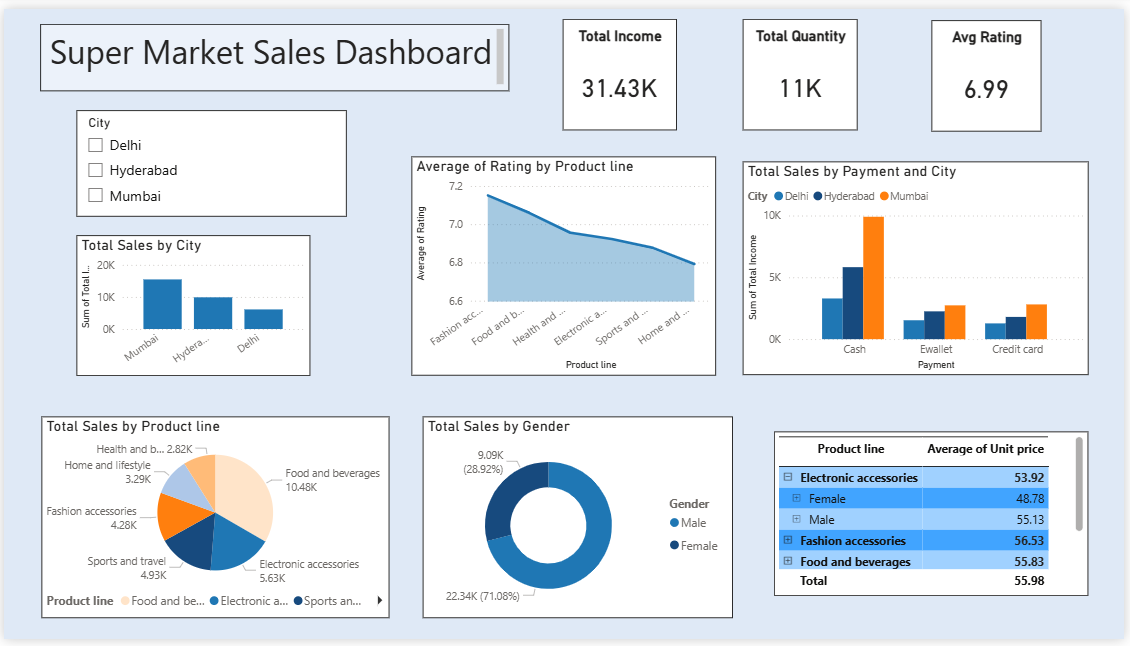

The page's visual inventory and layout, read from the dashboard file:
{"tool":"powerbi","page":{"name":"Page 1","canvas":[1280,720],"ordinal":0},"visuals":[{"type":"textbox","box":[41.4,17.1,535.7,77.1],"z":0},{"type":"columnChart","title":"Total Sales by City","fields":{"Y":["Sum(Realmart Sales Dataset.gross income)"],"Category":["Realmart Sales Dataset.City"]},"box":[82.3,258,267.6,160.5],"z":4000},{"type":"clusteredColumnChart","title":"Total Sales by Payment and City","fields":{"Category":["Realmart Sales Dataset.Payment"],"Y":["Sum(Realmart Sales Dataset.gross income)"],"Series":["Realmart Sales Dataset.City"]},"box":[843.9,174.3,395.2,244.3],"z":5000},{"type":"areaChart","fields":{"Category":["Realmart Sales Dataset.Product line"],"Y":["Avg(Realmart Sales Dataset.Rating)"]},"box":[465,168.3,348.3,250],"z":6000},{"type":"pieChart","title":"Total Sales by Product line","fields":{"Category":["Realmart Sales Dataset.Product line"],"Y":["Sum(Realmart Sales Dataset.gross income)"]},"box":[42.5,465.2,397.9,230.5],"z":7000},{"type":"donutChart","title":"Total Sales by Gender","fields":{"Category":["Realmart Sales Dataset.Gender"],"Y":["Sum(Realmart Sales Dataset.gross income)"]},"box":[478.9,465.2,354,230.5],"z":8000},{"type":"pivotTable","fields":{"Rows":["Realmart Sales Dataset.Product line","Realmart Sales Dataset.Gender","Realmart Sales Dataset.City"],"Values":["Avg(Realmart Sales Dataset.Unit price)"]},"box":[879.6,483,359.5,188],"z":9000},{"type":"slicer","fields":{"Values":["Realmart Sales Dataset.City"]},"box":[82.9,115.7,308.6,121.4],"z":10000},{"type":"card","title":"Total Income ","fields":{"Values":["Sum(Realmart Sales Dataset.Total Income)"]},"box":[638.6,11.4,130,127.1],"z":10001},{"type":"card","title":"Total Quantity","fields":{"Values":["Sum(Realmart Sales Dataset.Quantity)"]},"box":[844.3,11.4,131.4,127.1],"z":10002},{"type":"card","title":"Avg Rating","fields":{"Values":["Avg(Realmart Sales Dataset.Rating)"]},"box":[1060,12.9,125.7,127.1],"z":10003}]}

Visuals, with their boxes in screenshot pixels (x1, y1, x2, y2), scaled from the page's 1280x720 canvas onto the 1130x646 screenshot:
textbox: bbox=[37, 15, 509, 85]
"Total Sales by City" columnChart: bbox=[73, 231, 309, 375]
"Total Sales by Payment and City" clusteredColumnChart: bbox=[745, 156, 1094, 376]
areaChart - Realmart Sales Dataset.Product line x Avg(Realmart Sales Dataset.Rating): bbox=[411, 151, 718, 375]
"Total Sales by Product line" pieChart: bbox=[38, 417, 389, 624]
"Total Sales by Gender" donutChart: bbox=[423, 417, 735, 624]
pivotTable - Realmart Sales Dataset.Product line x Realmart Sales Dataset.Gender: bbox=[777, 433, 1094, 602]
slicer - Realmart Sales Dataset.City: bbox=[73, 104, 346, 213]
"Total Income " card: bbox=[564, 10, 679, 124]
"Total Quantity" card: bbox=[745, 10, 861, 124]
"Avg Rating" card: bbox=[936, 12, 1047, 126]
